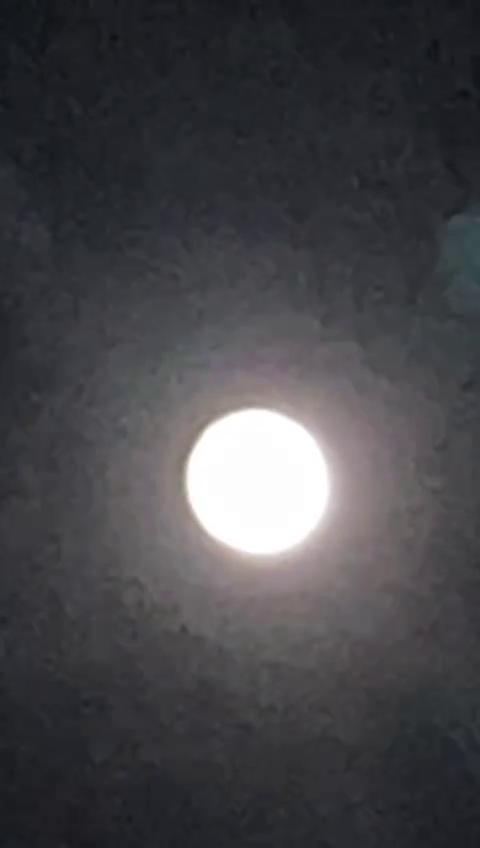moon: (154, 349, 322, 540)
